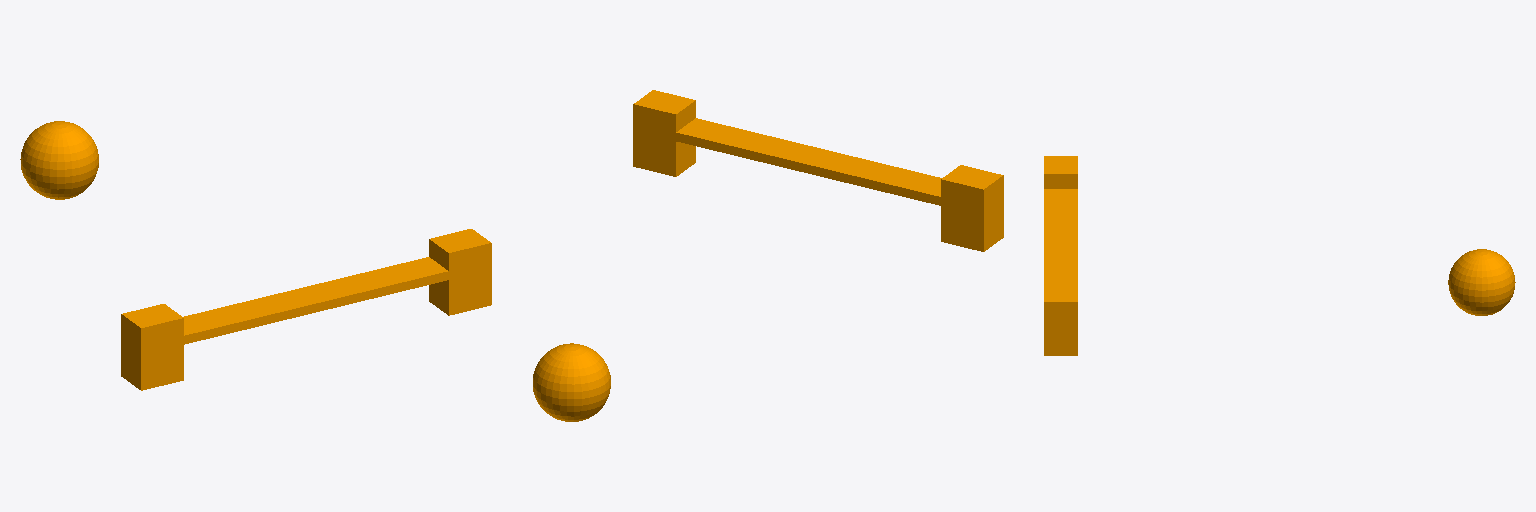
robot.urdf — gate:
<?xml version="1.0" ?>
<robot name = "gate">


    <link name = "base_left">
        <visual>
            <origin xyz = "-0.9 0 0.175" rpy = "0 0 0"/>
 
            <geometry>
                <box size = "0.25 0.2 0.35"/>
            </geometry>
            <material name = "red">
                <color rgba = "1.0 0.6470588235294118 0.0 0"/>
            </material>    
        </visual>
        <collision>
            <origin xyz = "-0.9 0 0.175" rpy = "0 0 0"/>
            <geometry>
                <box size = "0.25 0.2 0.35"/>
            </geometry>
            <!-- <origin xyz = "-0.9 0 0.15" rpy = "0 0 0"/> -->
        </collision>
        <inertial>
            <mass value="20"/>
            <inertia ixx="0.01" ixy="0.0" ixz="0.0" iyy="0.01" iyz="0.0" izz="0.01"/>
          </inertial>
      
    </link> 


    <link name = "base_up">
        <visual>
            <origin xyz = "0 0 0.225" rpy = "0 0 0"/>
            <geometry>
                <box size = "1.8 0.2 0.05"/>
            </geometry>
            <!-- <origin xyz = "0 0 0.275" rpy = "0 0 0"/> -->
            <material name = "red">
                <color rgba = "1.0 0.6470588235294118 0.0 0"/>
            </material>    

        </visual>
        <collision>
            <origin xyz = "0 0 0.225" rpy = "0 0 0"/>
            <geometry>
                <box size = "1.8 0.2 0.05"/>
            </geometry>
            <!-- <origin xyz = "0 0 0.275" rpy = "0 0 0"/> -->
        </collision>
        <inertial>
            <mass value="20"/>
            <inertia ixx="0.01" ixy="0.0" ixz="0.0" iyy="0.01" iyz="0.0" izz="0.01"/>
          </inertial>
      
    </link> 


    <joint name = "base_ji_left" type = 'fixed'>
        <parent link = "base_left"/>
        <child link = "base_up"/>
        <origin xyz = "0 0 0" rpy = "0 0 0"/>
    </joint>

    <link name = "base_right">
        <visual>
            <origin xyz = "0.9 0 0.175" rpy = "0 0 0"/>
            <geometry>
                <box size = "0.25 0.2 0.35"/>
            </geometry>
            <material name = "red">
                <color rgba = "1.0 0.6470588235294118 0.0 0"/>
            </material>    
            <!-- <origin xyz = "0.9 0 0.15" rpy = "0 0 0"/> -->
        </visual>
        <collision>
            <origin xyz = "0.9 0 0.175" rpy = "0 0 0"/>
            <geometry>
                <box size = "0.25 0.2 0.35"/>
            </geometry>
            
        </collision>
        <inertial>
            <mass value="20"/>
            <inertia ixx="0.01" ixy="0.0" ixz="0.0" iyy="0.01" iyz="0.0" izz="0.01"/>
          </inertial>
      
    </link> 

    <joint name = "base_ji_right" type = 'fixed'>
        <parent link = "base_up"/>
        <child link = "base_right"/>
        <origin xyz = "0 0 0" rpy = "0 0 0"/>
    </joint>

  <link name="ball">
    <visual>
      <origin xyz="0 2.5 0"/>
      <geometry>
        <sphere radius="0.2"/>
      </geometry>
            <material name = "red">
                <color rgba = "1.0 0.6470588235294118 0.0 0"/>
            </material>    
    </visual>
    <collision>
      <origin xyz="0 2.5 0"/>
      <geometry>
        <sphere radius="0.2"/>
      </geometry>
    </collision>
    <inertial>
      <mass value="0.5"/>
      <inertia ixx="0.01" ixy="0.0" ixz="0.0" iyy="0.01" iyz="0.0" izz="0.01"/>
    </inertial>
  </link>


    <joint name = "base_ji_back" type = 'fixed'>
        <parent link = "base_up"/>
        <child link = "ball"/>
        <origin xyz = "0 0 0" rpy = "0 0 0"/>
    </joint>

    


</robot>

--- Render facts (derived) ---
3 views of the same robot in one strip: view 1: azimuth 30°, elevation 25°; view 2: azimuth 150°, elevation 25°; view 3: azimuth 270°, elevation 25° (orthographic).
Robot: gate — 4 links, 3 joints (3 fixed); root link base_left; default pose: all joints at 0.
Links seen in each view (by area): view 1: base_up, ball, base_left, base_right; view 2: base_up, ball, base_left, base_right; view 3: ball, base_up, base_right, base_left.
Link boxes in pixels (x1,y1,x2,y2): base_up: (163,257,469,349); ball: (20,121,98,199); base_left: (121,304,183,390); base_right: (429,229,491,315); base_up: (655,118,954,205); ball: (533,343,610,421); base_left: (941,165,1003,251); base_right: (633,90,695,176); ball: (1448,249,1515,315); base_up: (1044,189,1077,283); base_right: (1044,284,1077,355); base_left: (1044,156,1077,188).
Bounding box of the posed robot: 2.05 × 2.8 × 0.55 m (x, y, z).
Geometry: primitives only (box / cylinder / sphere), no mesh files.